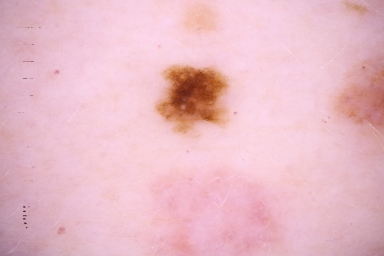nevus: (156, 65, 231, 131)
